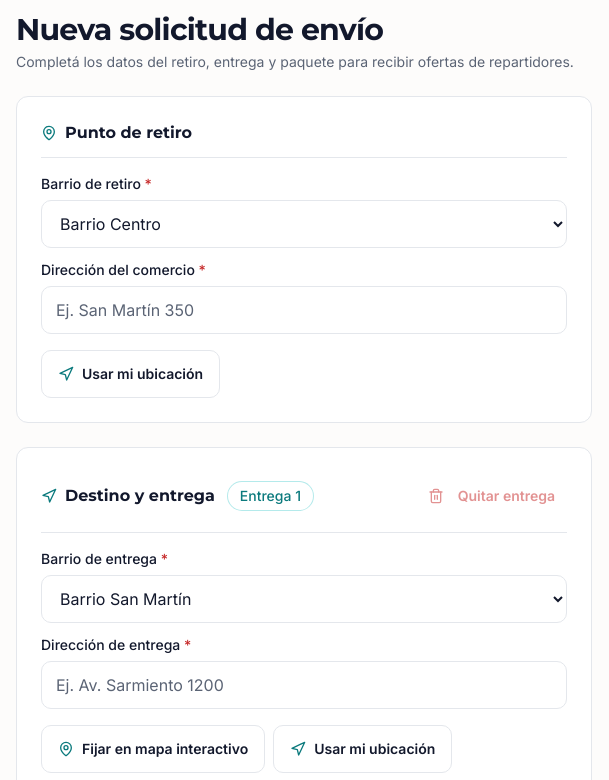
Test: T-340: CreateRequestForm multi-drop › T-116: permite alternar la vista del mapa interactivo para fijar el pin de entrega
The image size is (609, 780).
Click the button "Fijar en mapa interactivo".
click(153, 749)  # box [41, 725, 265, 773]
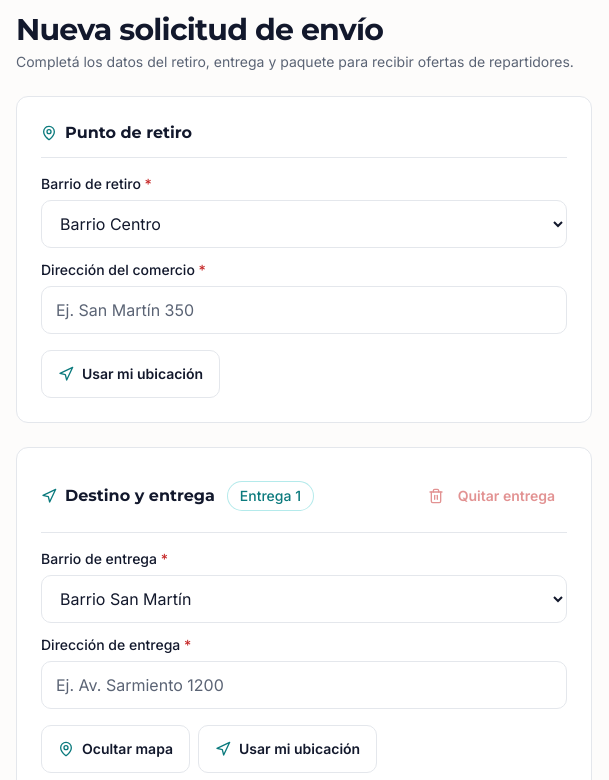
Now the button "Ocultar mapa" is shown
Click the button "Ocultar mapa".
click(116, 749)  # box [41, 725, 190, 773]
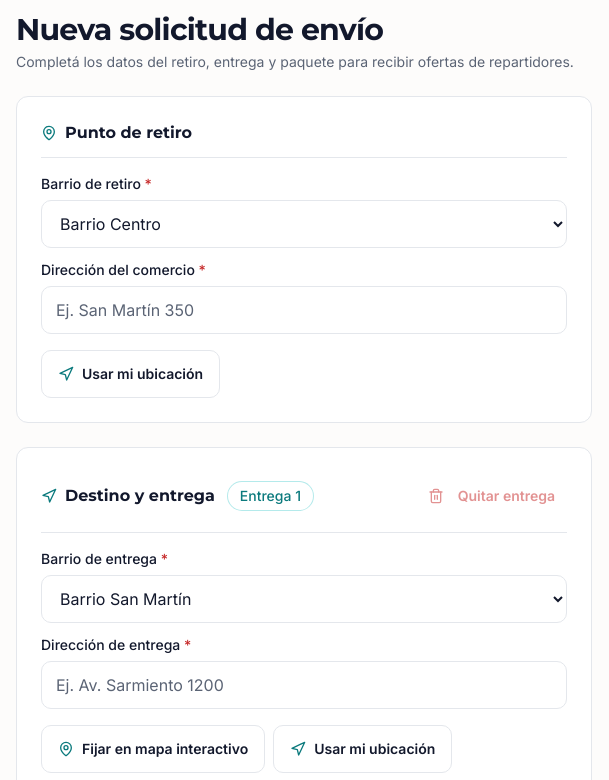
Now the button "Fijar en mapa interactivo" is shown, box [41, 725, 265, 773]
